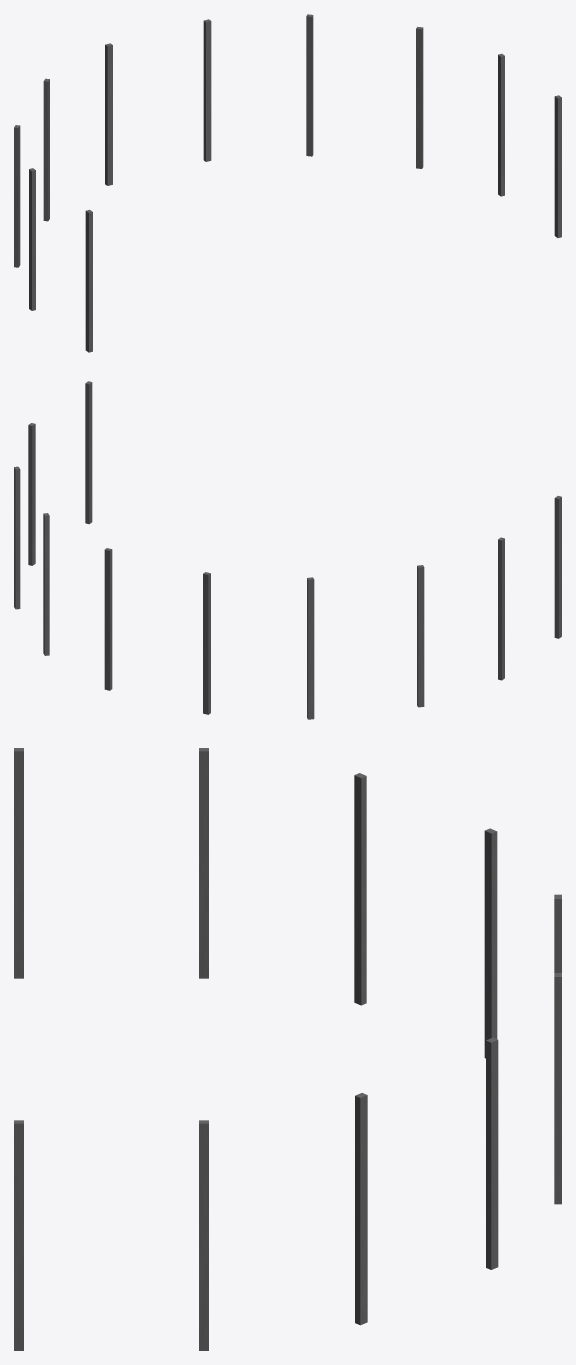
The model's file is Observatory_Interior_Studs_01.fbx.
The picture shows the model from 3 angles, top to bottom: view 1: azimuth 30°, elevation 25°; view 2: azimuth 150°, elevation 25°; view 3: azimuth 270°, elevation 25°; orthographic projection. The views are drawn at different scales.
Parts seen in each view (by area): view 1: studs; view 2: studs; view 3: studs.
Boxes of the visible parts, <box> form: studs: <box>14,14,561,352</box>; studs: <box>14,381,561,719</box>; studs: <box>14,748,561,1350</box>.
Bounding box in the file's own units: 6394 × 1805 × 3942.
